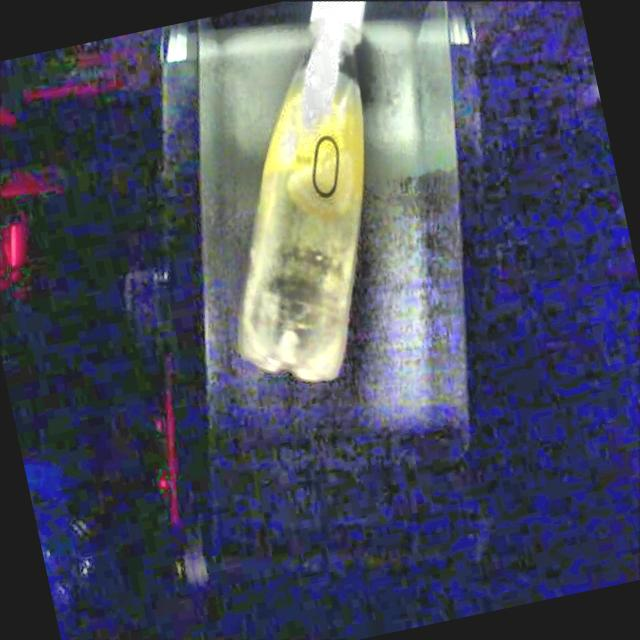plastic bottle: (239, 1, 364, 380)
